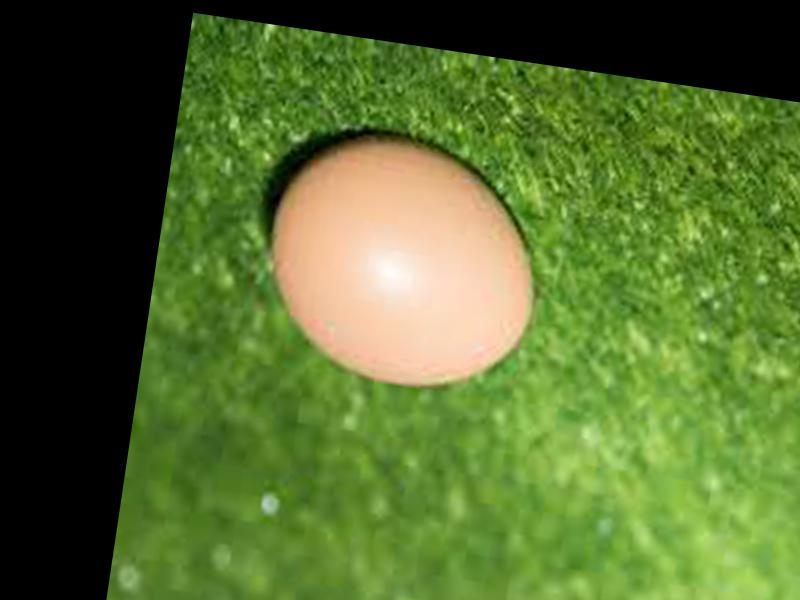Eggs: (251, 118, 557, 398)
